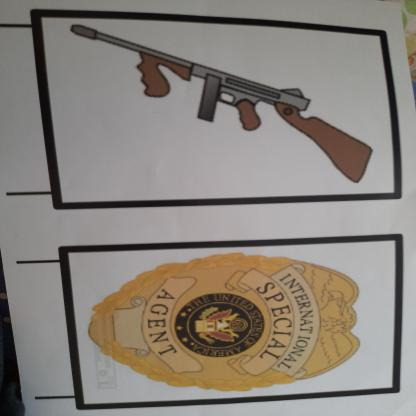Bootlegger: (55, 22, 390, 192)
G-man: (74, 245, 380, 399)
